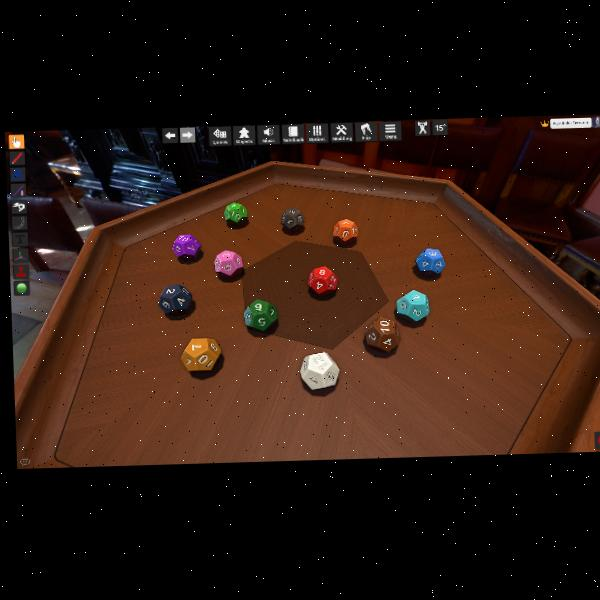d12: (299, 352, 337, 390), (181, 337, 222, 372), (364, 316, 400, 353), (242, 299, 278, 333), (159, 283, 194, 315), (396, 290, 427, 323), (213, 249, 243, 278), (414, 247, 444, 276), (307, 266, 335, 296), (172, 232, 202, 260), (336, 218, 360, 244), (280, 207, 304, 232), (223, 201, 247, 224)
